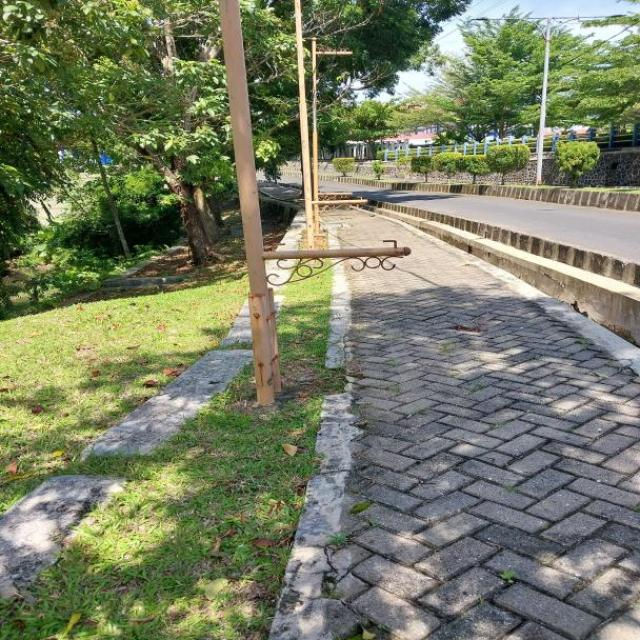electric pole ahead at: (212, 0, 292, 400)
